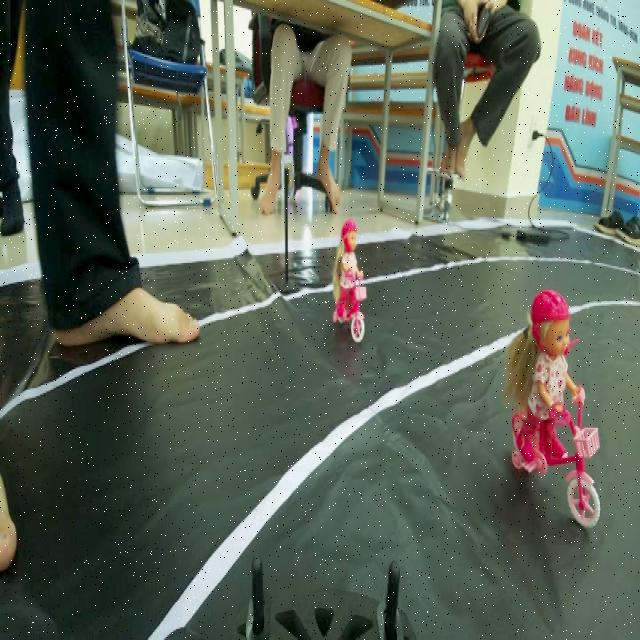pedestrian: (504, 293, 606, 548), (326, 217, 374, 337)
